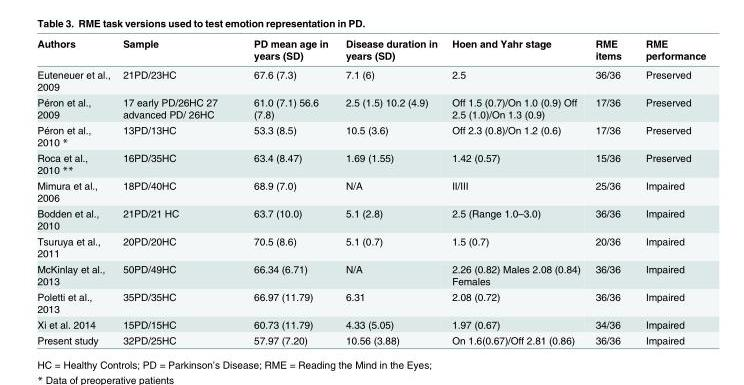table: (36, 37, 705, 345)
table column: (444, 37, 587, 345), (115, 37, 234, 345), (336, 37, 444, 345), (234, 37, 336, 345), (36, 37, 115, 345), (632, 37, 705, 345), (587, 37, 632, 345)
table column header: (36, 37, 705, 64)
table row: (36, 64, 705, 94), (36, 121, 705, 149), (36, 149, 705, 177), (36, 177, 705, 205), (36, 232, 705, 260), (36, 260, 705, 288), (36, 288, 705, 316), (36, 37, 705, 64), (36, 94, 705, 121), (36, 205, 705, 232), (36, 316, 705, 332), (36, 332, 705, 345)
